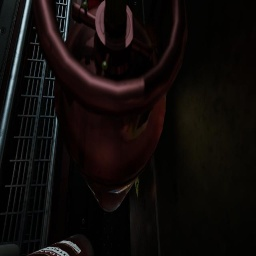NitrogenTank ,: (32, 0, 188, 212), (26, 233, 94, 256)
